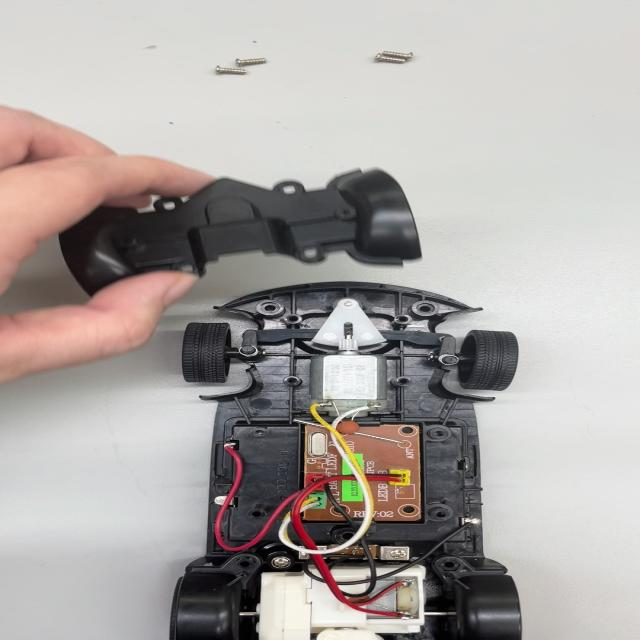motor: (307, 349, 385, 415)
motor_cover: (64, 168, 428, 291)
screw: (368, 42, 417, 72), (210, 63, 252, 81), (230, 51, 271, 67)
